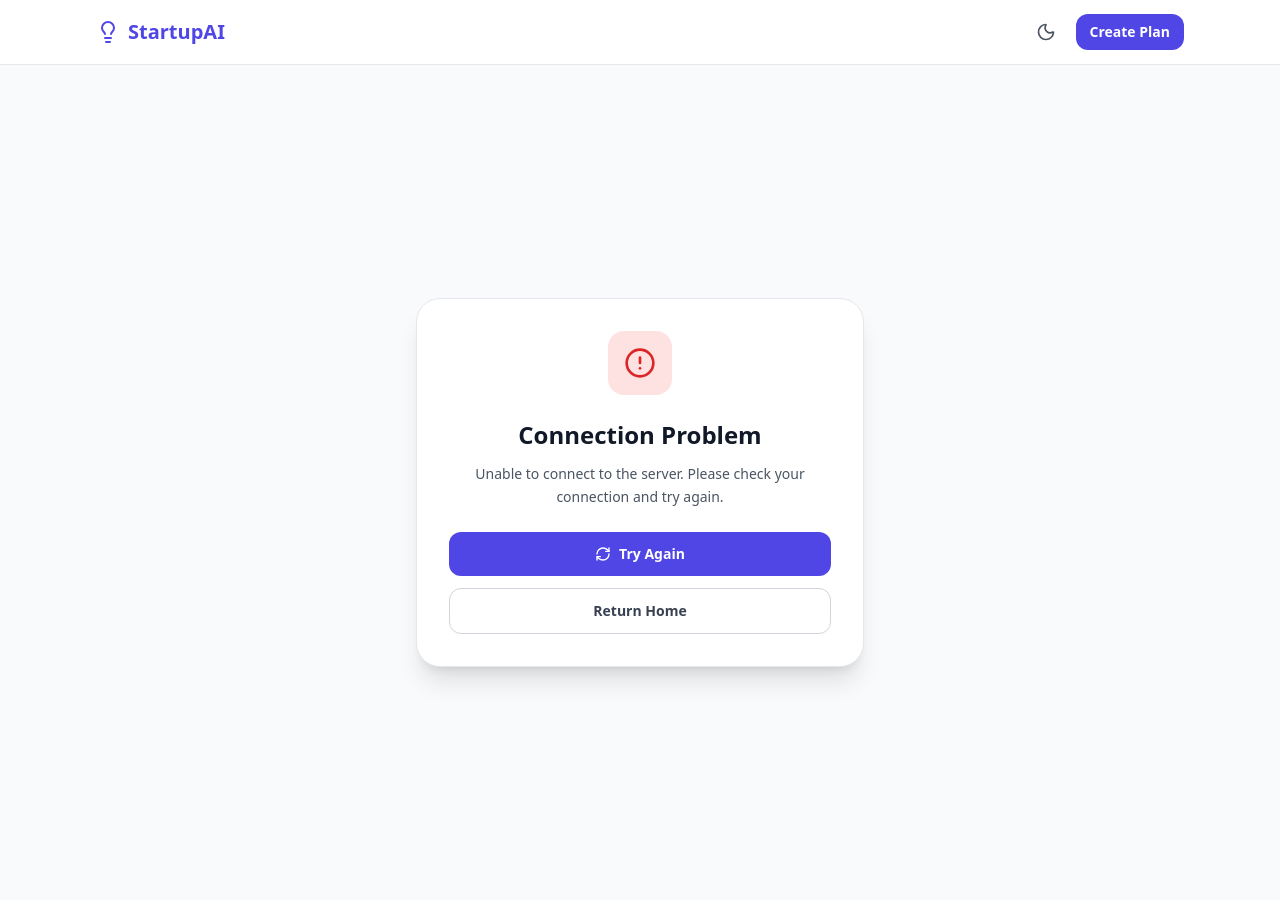
SharedPlanPage — Phase 5.4 Public Presentation Page › 7. Clicking Retry initiates another network request
Expected: the heading "Connection Problem" is shown, [518, 418, 762, 451]
Click the button "Try Again" at point(640, 554), box [449, 532, 831, 576]
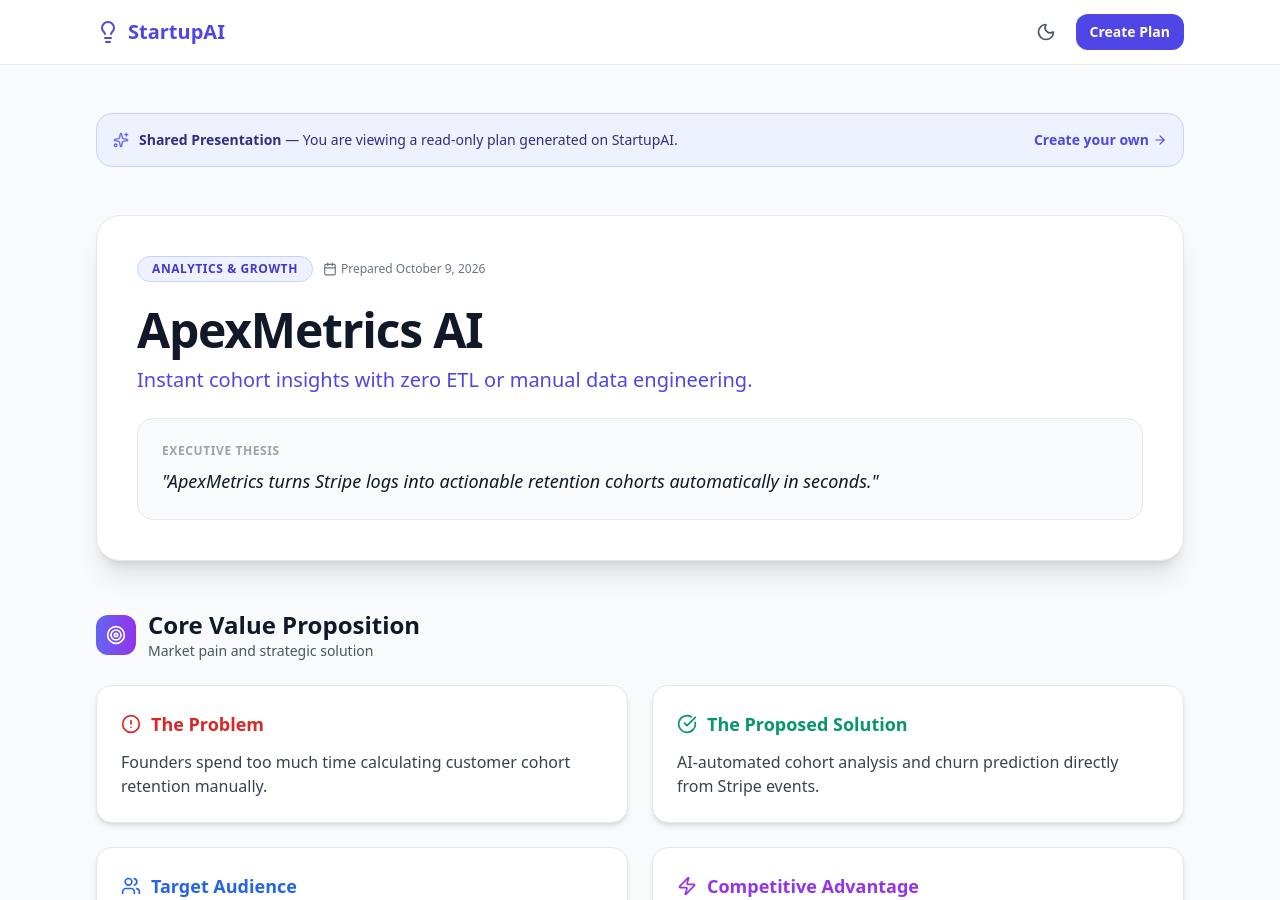
Result: the heading "ApexMetrics AI" is shown at [137, 297, 483, 362]
